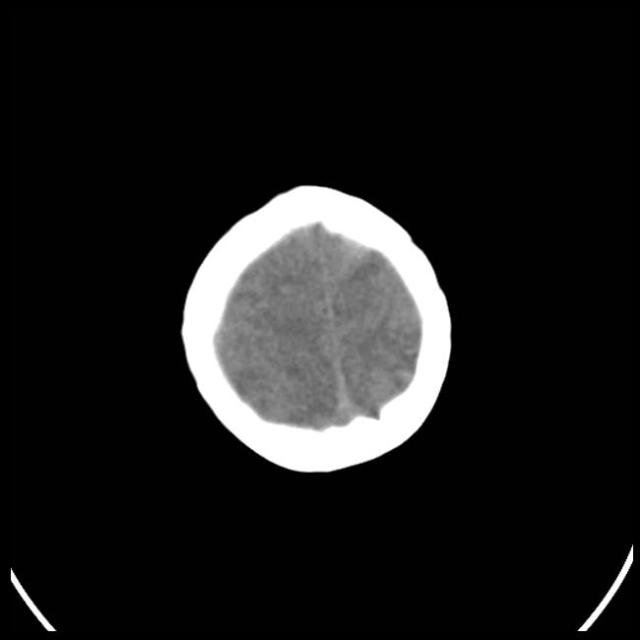lesion: (176, 179, 457, 477)
